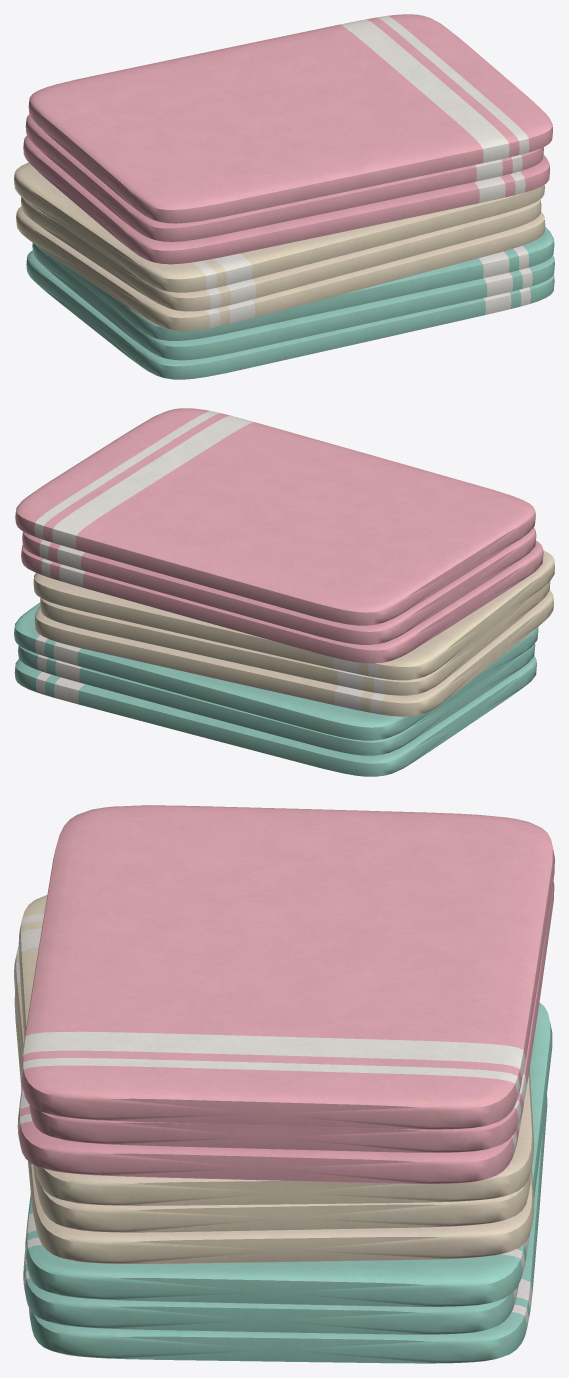
Rendered from bath-towel.glb.
The picture shows the model from 3 angles, top to bottom: view 1: azimuth 30°, elevation 25°; view 2: azimuth 150°, elevation 25°; view 3: azimuth 270°, elevation 25°; orthographic projection. The views are drawn at different scales.
Visible parts, largest first — view 1: bath-towel_body; view 2: bath-towel_body; view 3: bath-towel_body.
Part boxes in pixels (x1,y1,x2,y2): bath-towel_body: (14,14,554,379); bath-towel_body: (14,408,554,776); bath-towel_body: (14,805,554,1363).
Size of the model in its own units: 0.381 by 0.153 by 0.2793.
1 material, 1 textured.
